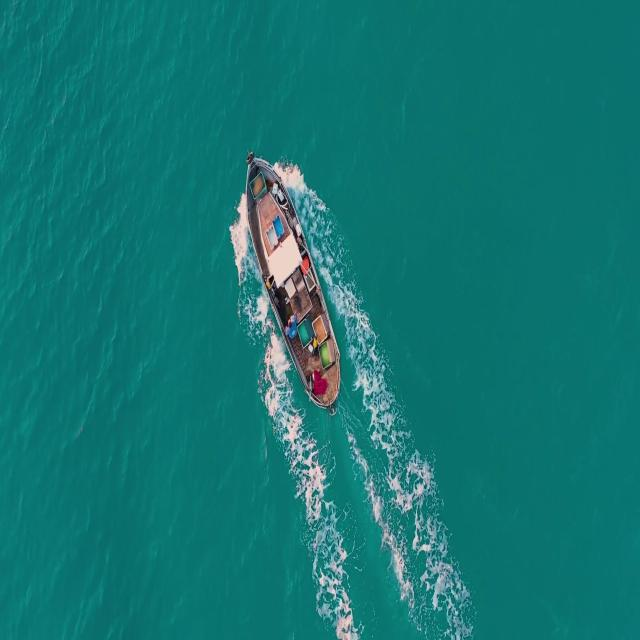ship: (241, 150, 343, 412)
